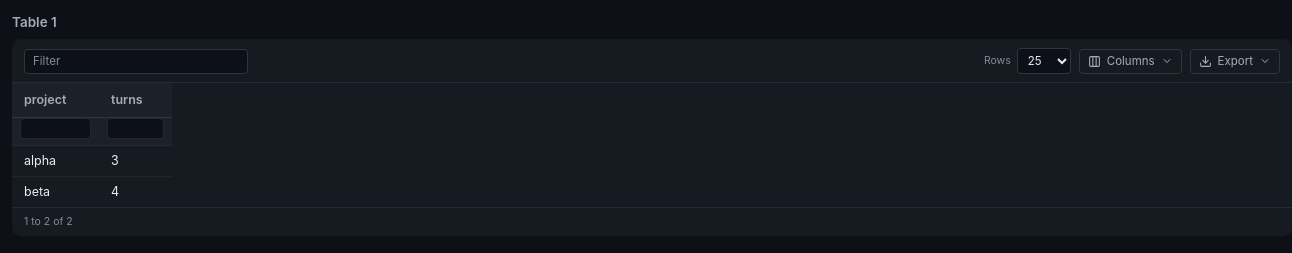
Test: the table controls every table now has › filters by ONE column without touching the others
This screenshot has width=1292, height=253.
Type "alph" into the field named "Filter by project" at (56, 129), box top-left (20, 118), bottom-right (91, 139)
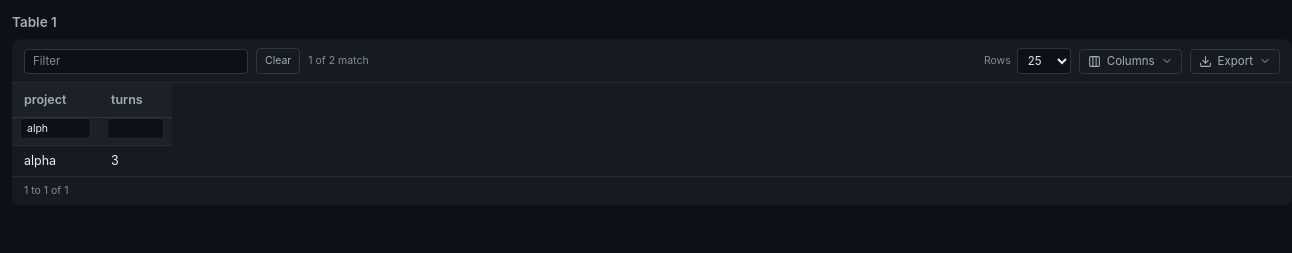
Expected: the text "1 of 2 match" is shown, top-left (308, 53), bottom-right (369, 69)
